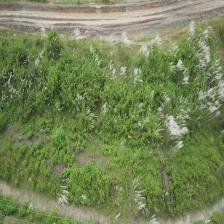vegetation: (47, 51, 105, 114)
